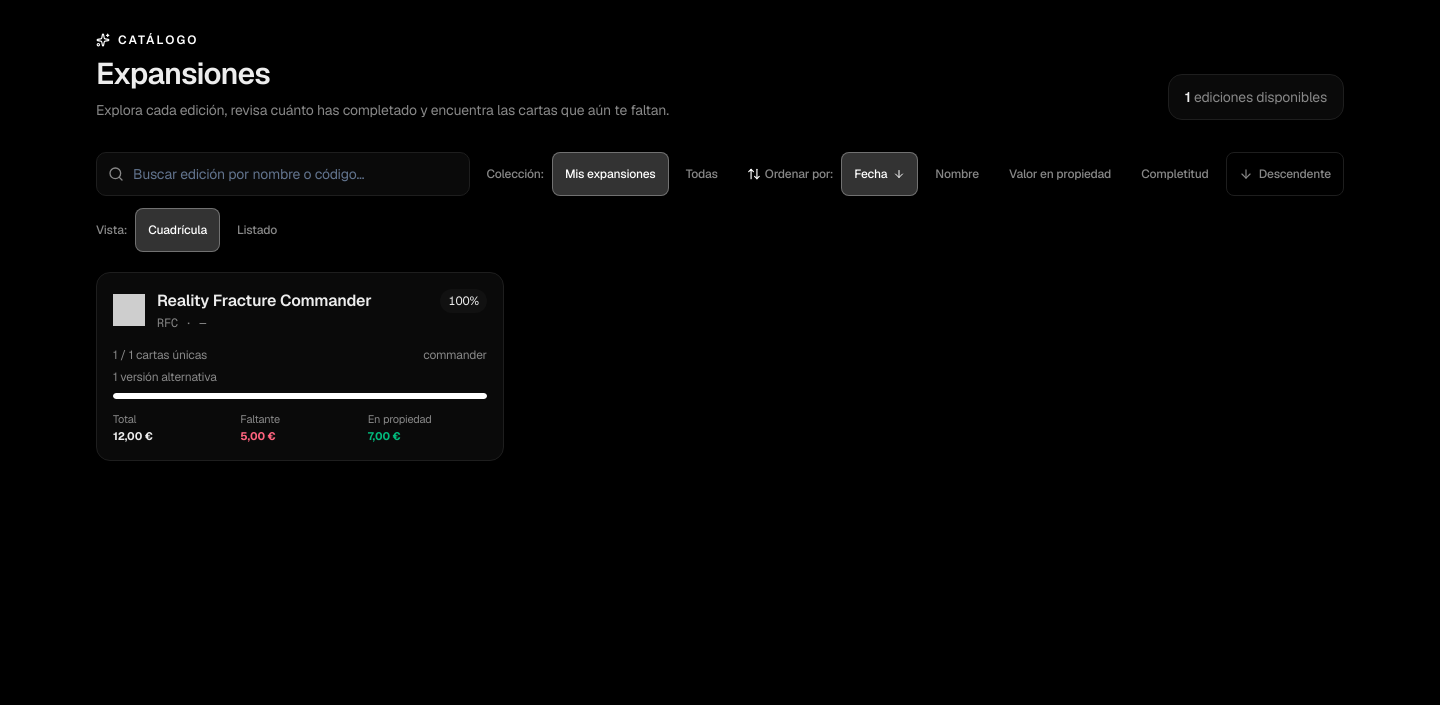
Test case: ExpansionsView › keeps index and detail completion aligned when only the special-art printing is missing
The image size is (1440, 705).
Check: the text "100%" is shown, box x1=440 y1=289 x2=487 y2=313
Click the button "Reality Fracture Commander".
click(129, 310)  # box x1=96 y1=272 x2=504 y2=461
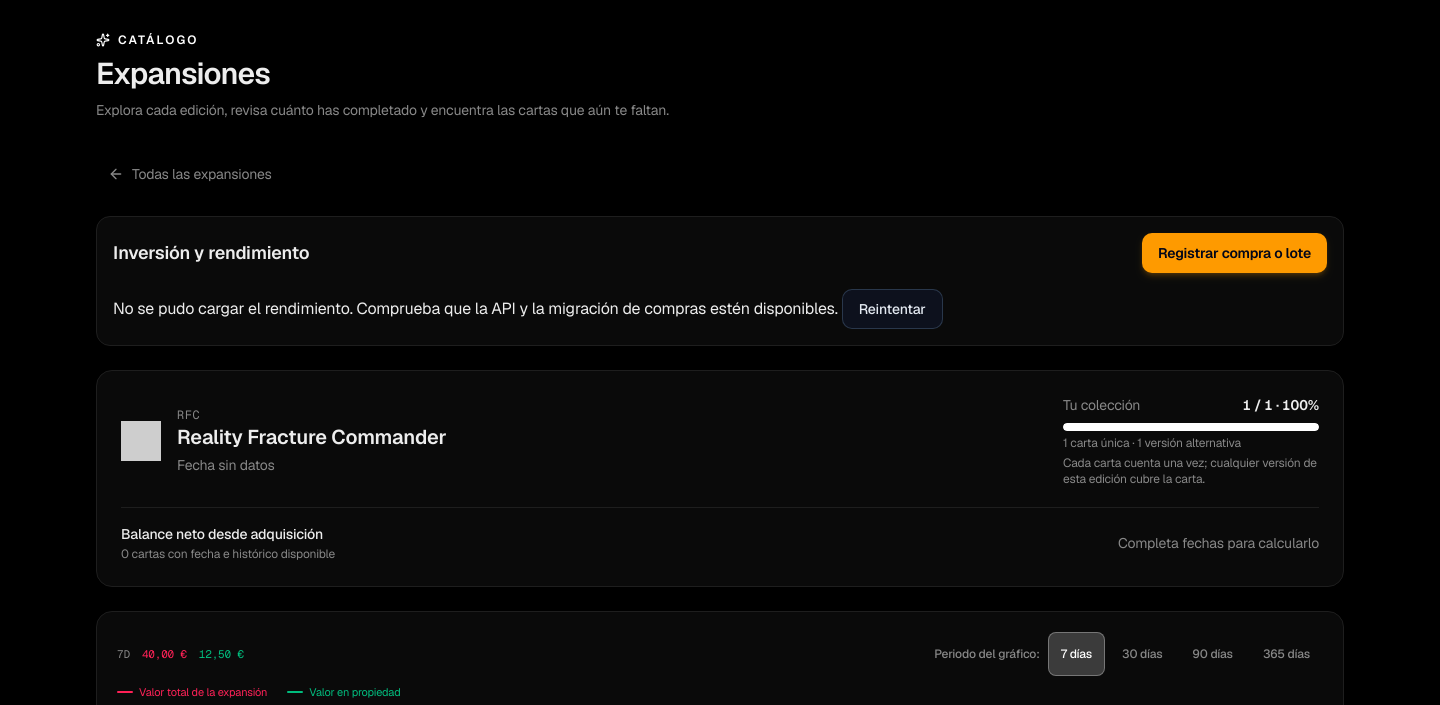
Check: the text "1 / 1 · 100%" is shown, box x1=1242 y1=395 x2=1319 y2=415
